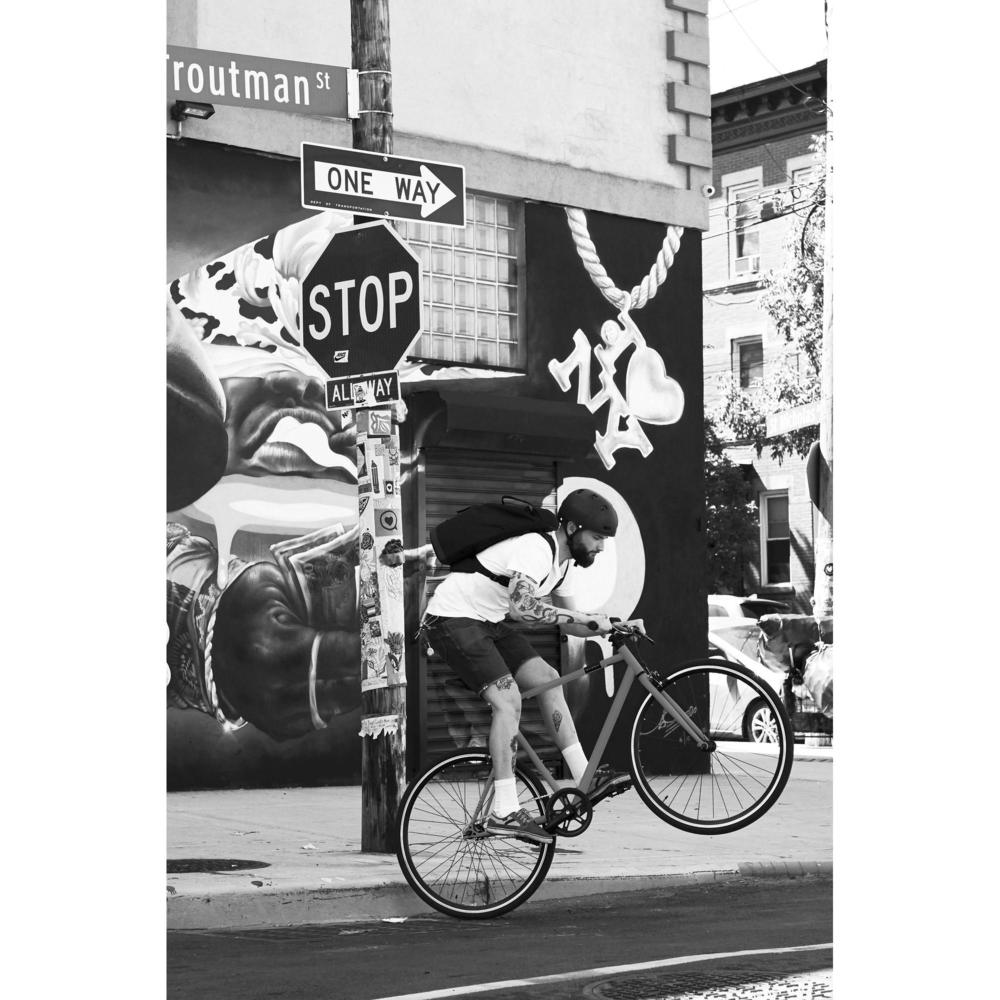UrbanBike: (391, 600, 797, 923)
